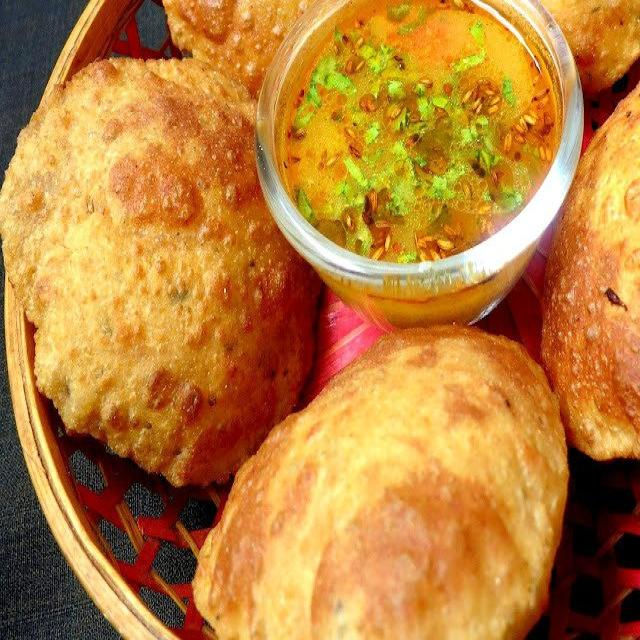puri: (10, 64, 281, 523), (290, 332, 543, 640)
